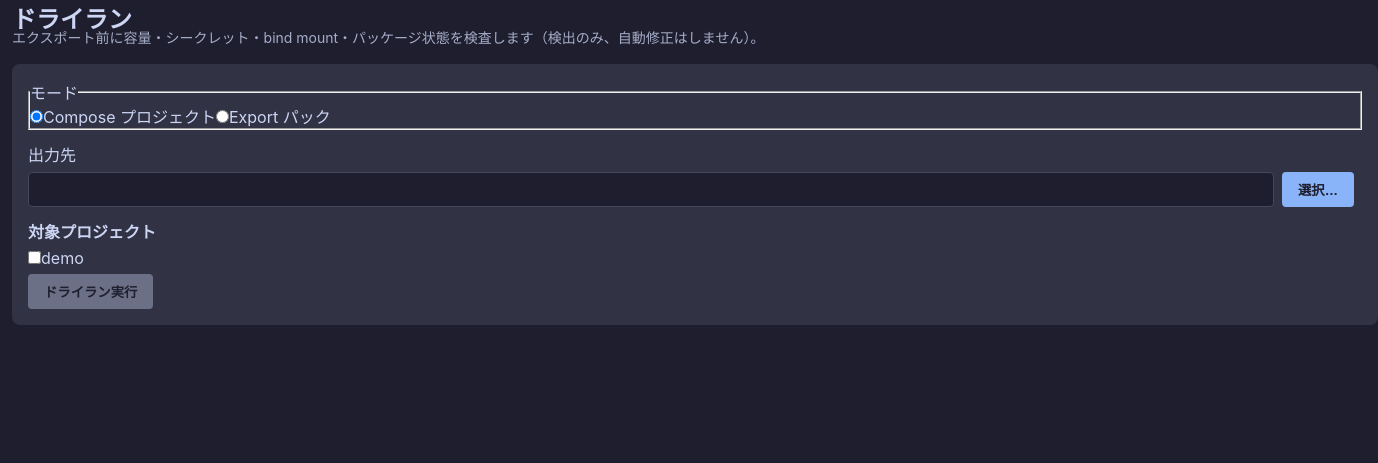
DryRunPage › モード切替で Export パック UI
What coordinates should you click on to do the following:
click the radio button labelled "Export パック"
I would click on:
 (222, 116)
Its box is [216, 110, 229, 123].
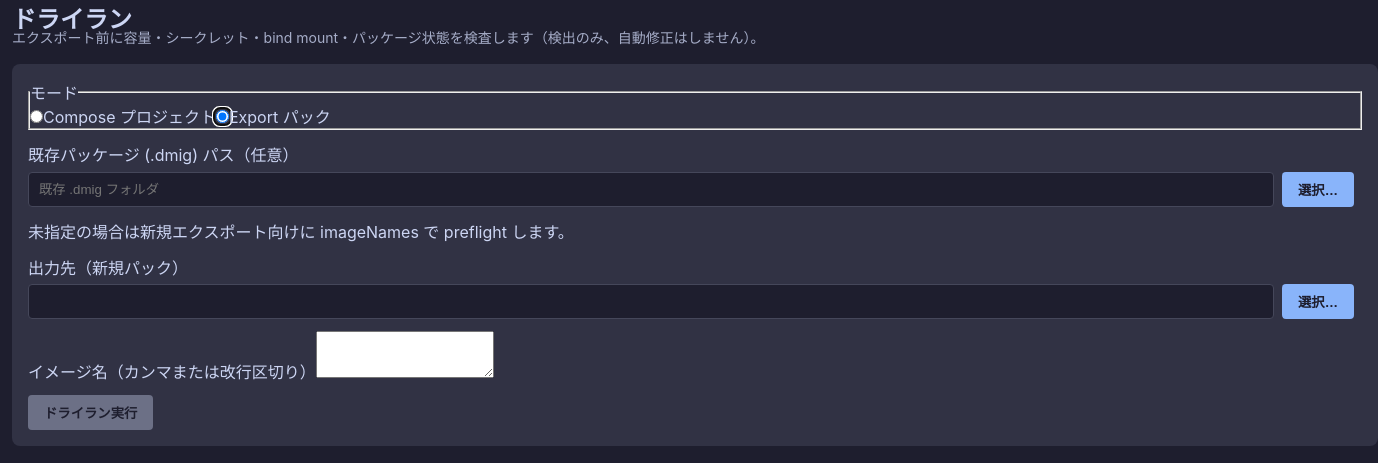
Check: the text "既存パッケージ (.dmig) パス（任意） 選択…" is shown, box [28, 142, 1362, 207]
